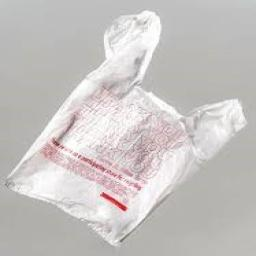Plastic: (4, 9, 249, 245)
